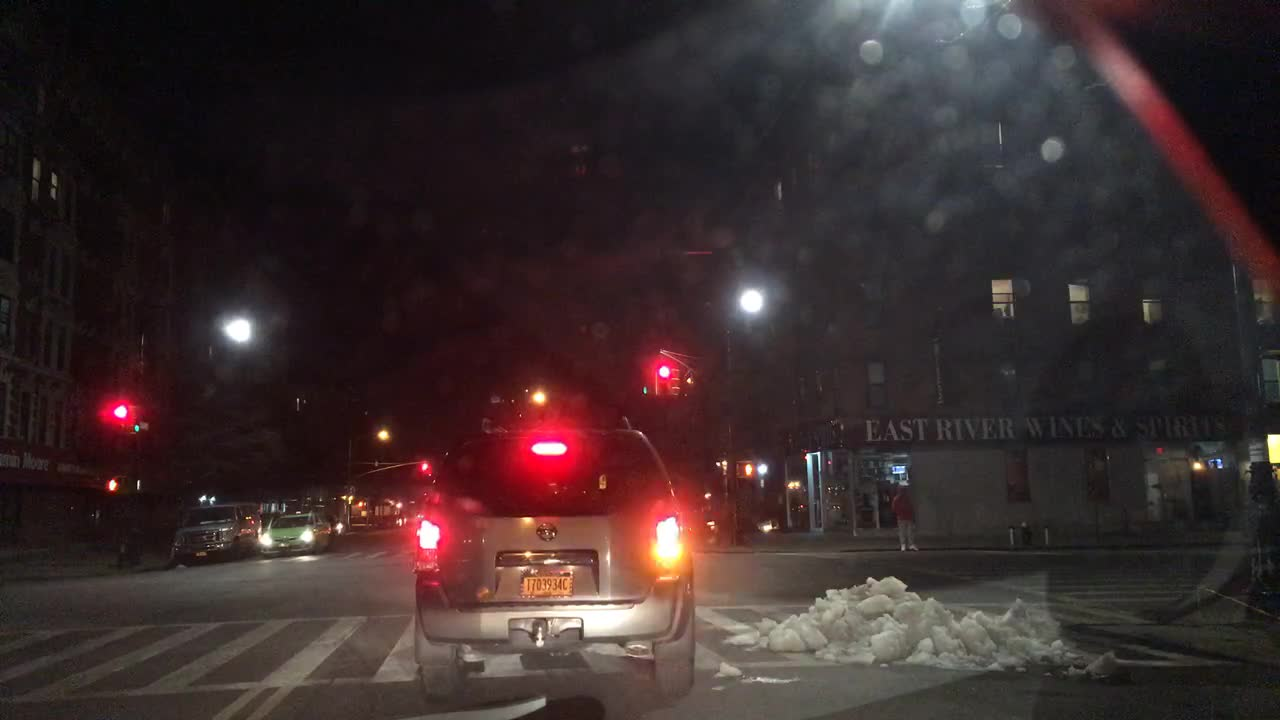car: (413, 409, 696, 697), (168, 506, 257, 565), (258, 511, 329, 556), (329, 510, 345, 541), (376, 513, 402, 531)
person: (885, 477, 920, 552)
traffic light: (641, 361, 653, 398), (658, 361, 671, 393), (131, 403, 142, 436), (114, 405, 128, 429), (736, 461, 756, 477), (417, 460, 430, 481), (106, 476, 119, 496), (672, 366, 680, 396), (131, 477, 142, 491)
